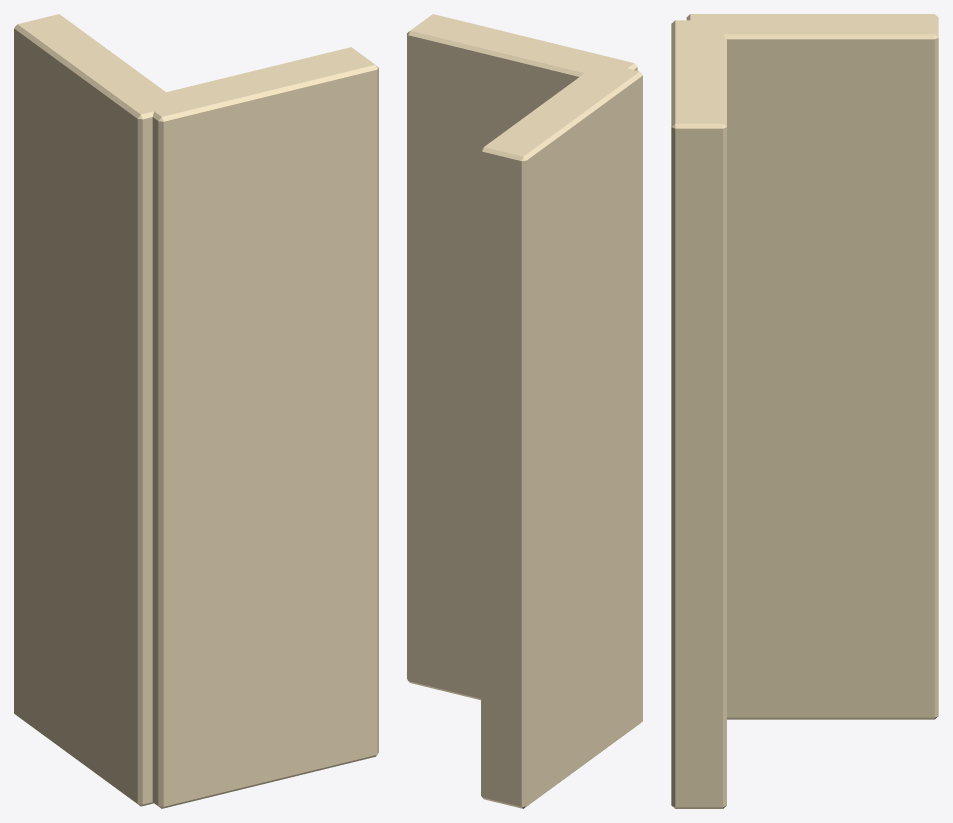
Rendered from BuildingCorner_1m.fbx.
The picture shows the model from 3 angles, left to right: view 1: azimuth 30°, elevation 25°; view 2: azimuth 150°, elevation 25°; view 3: azimuth 270°, elevation 25°; orthographic projection. The views are drawn at different scales.
Parts seen in each view (by area): view 1: CornerA, CornerB; view 2: CornerB, CornerA; view 3: CornerB, CornerA.
Boxes of the visible parts, <box> form: CornerA: <box>138,47,378,808</box>; CornerB: <box>14,14,176,806</box>; CornerB: <box>481,62,642,808</box>; CornerA: <box>407,14,637,700</box>; CornerB: <box>686,14,938,719</box>; CornerA: <box>671,20,726,808</box>.
Bounding box in the file's own units: 1.06 × 3 × 1.06.
